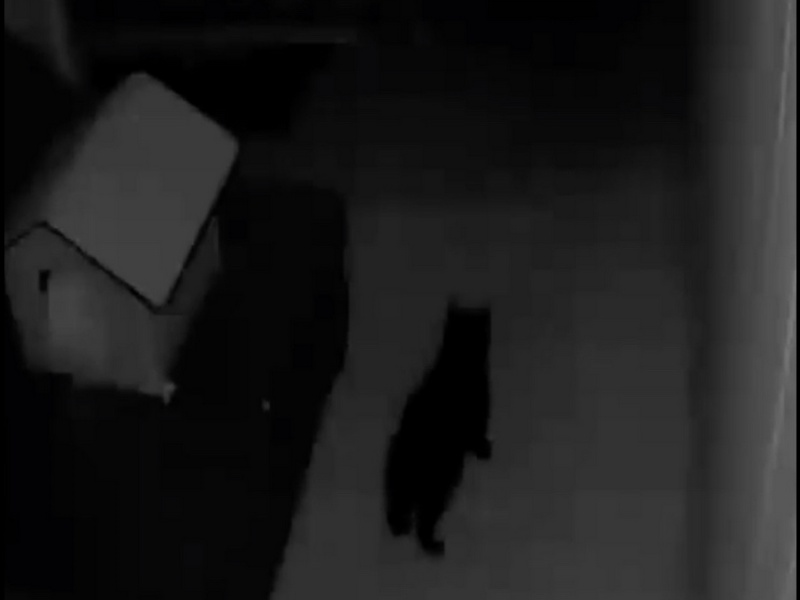cat: (369, 290, 511, 562)
